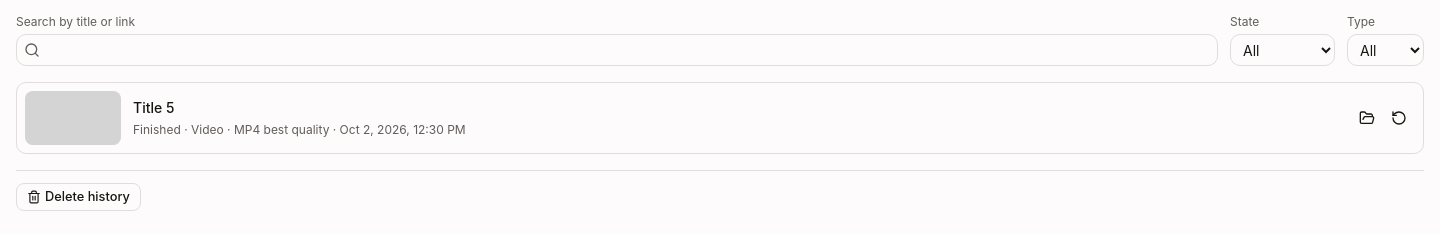
Test case: the history › downloads an entry again with the same request and its title
Click the button named "Download again" at x=1399, y=118, box [1383, 102, 1415, 134]
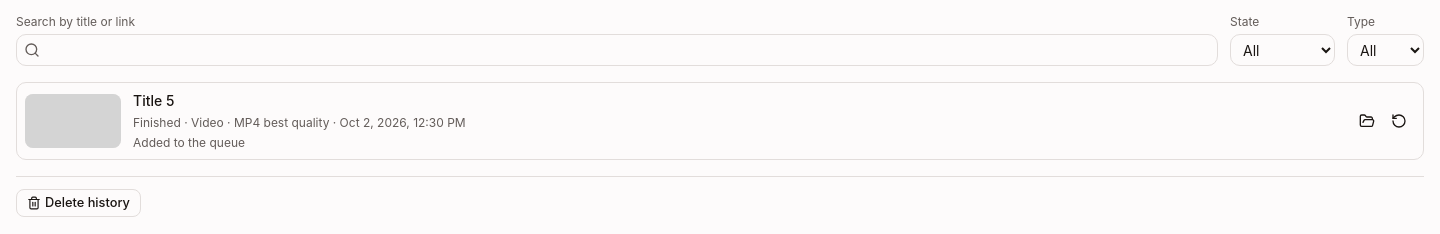
Check: the text "Added to the queue" is shown, box [133, 135, 245, 150]
